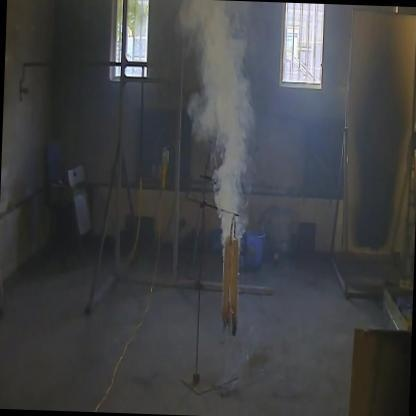smoke: (171, 4, 282, 310)
